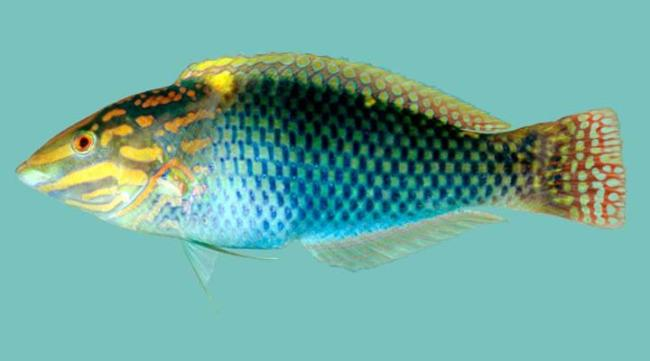fish: (15, 51, 628, 300)
